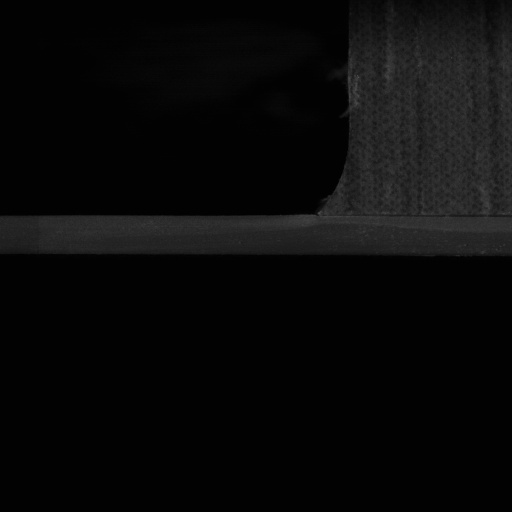changdai: (0, 210, 321, 258)
